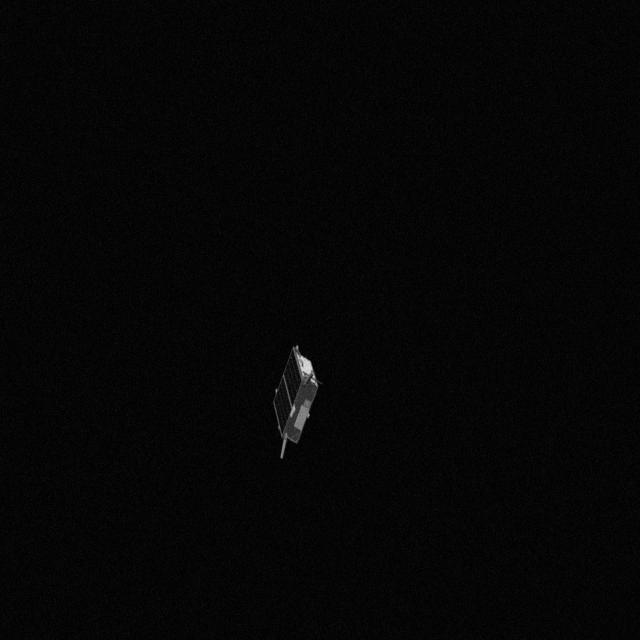medium_debris: (266, 344, 328, 468)
